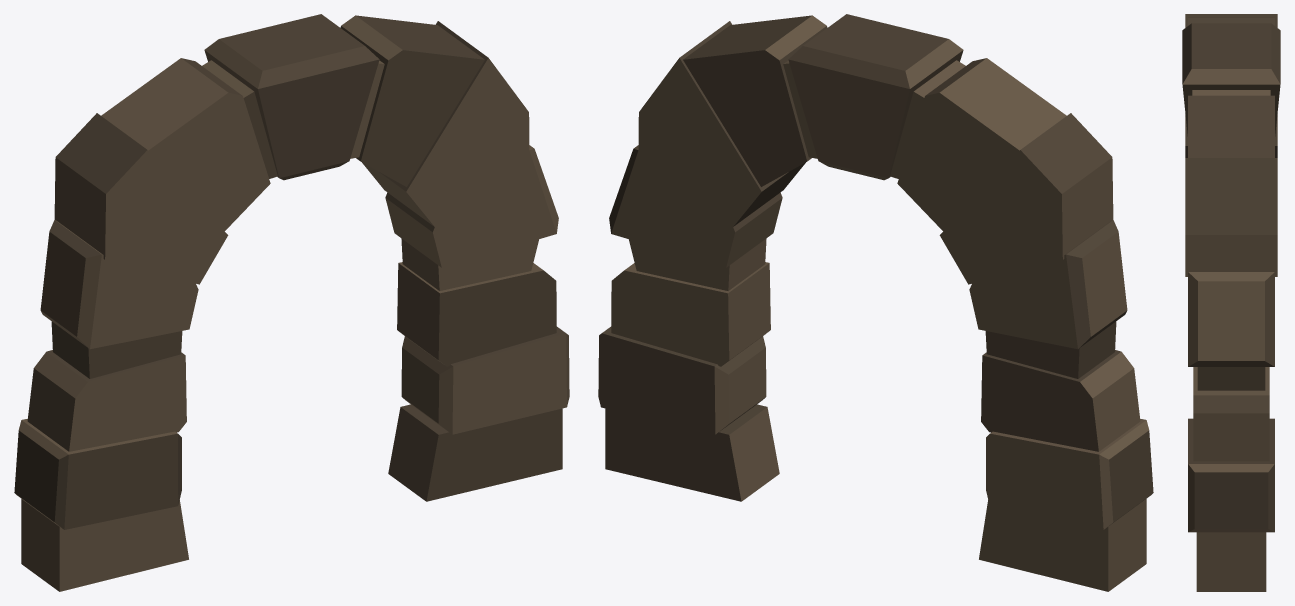
The model's file is Archway_2_Brown.fbx.
3 views of the same model, side by side, from view 1: azimuth 30°, elevation 25°; view 2: azimuth 150°, elevation 25°; view 3: azimuth 270°, elevation 25° (orthographic). The views are drawn at different scales.
Visible parts, largest first — view 1: Archway_2_Brown_Part_1, Archway_2_Brown_Part_2; view 2: Archway_2_Brown_Part_1, Archway_2_Brown_Part_2; view 3: Archway_2_Brown_Part_2, Archway_2_Brown_Part_1.
Part boxes in pixels (x1,y1,x2,y2): Archway_2_Brown_Part_1: (16, 15, 569, 591); Archway_2_Brown_Part_2: (14, 14, 565, 529); Archway_2_Brown_Part_1: (611, 15, 1151, 591); Archway_2_Brown_Part_2: (598, 14, 1153, 526); Archway_2_Brown_Part_2: (1182, 14, 1280, 531); Archway_2_Brown_Part_1: (1182, 17, 1280, 591).
Size of the model in its own units: 496 by 436 by 89.46.
